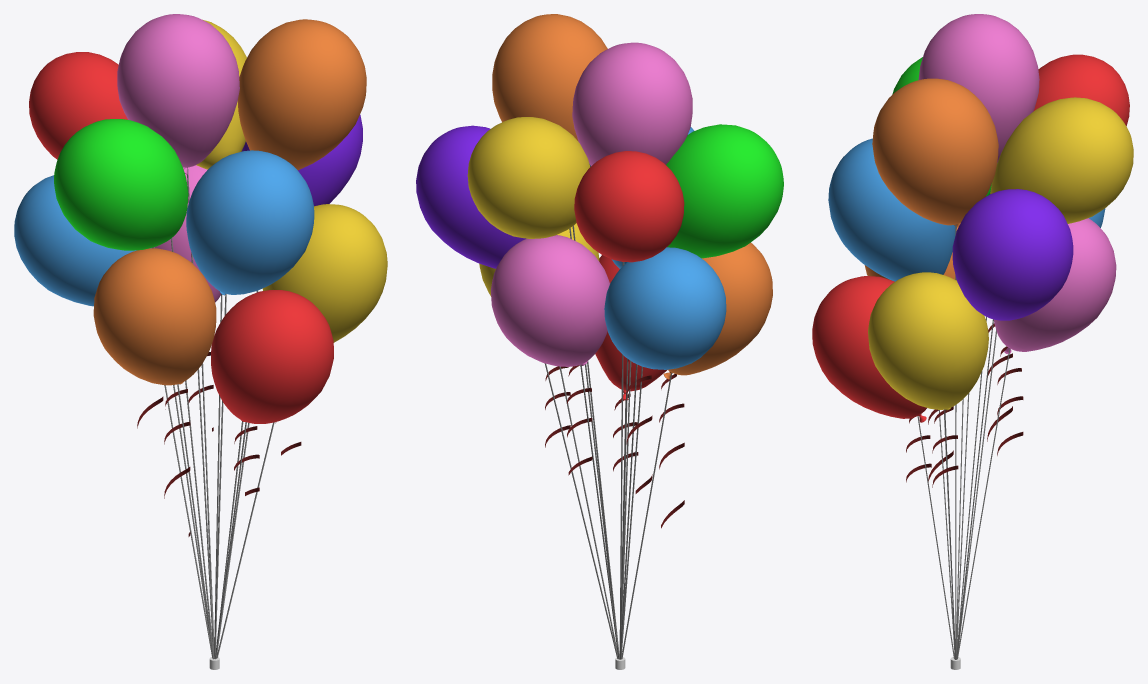
Rendered from Ballons.glb.
3 renders of one model, left to right at view 1: azimuth 30°, elevation 25°; view 2: azimuth 150°, elevation 25°; view 3: azimuth 270°, elevation 25°, orthographic.
Parts seen in each view (by area): view 1: Sphere.001, Sphere, Sphere.003, Sphere.002, Sphere.004, Sphere.005, Sphere.006, Sphere.008, Sphere.011, Sphere.007, Sphere.010, Sphere.009 (+6 smaller); view 2: Sphere.009, Sphere.003, Sphere.008, Sphere.002, Sphere.010, Sphere.011, Sphere.001, Sphere.007, Sphere.004, Sphere.005, Cube.011, Cube.015 (+8 smaller); view 3: Sphere.001, Sphere.006, Sphere.007, Sphere.010, Sphere, Sphere.002, Sphere.005, Sphere.009, Sphere.011, Cube.011, Cube.015, Cube.016 (+2 smaller).
Part boxes in pixels (x1,y1,x2,y2): Sphere.001: (238,19,366,170); Sphere: (186,150,314,295); Sphere.003: (54,119,188,250); Sphere.002: (117,14,239,174); Sphere.004: (93,248,216,385); Sphere.005: (211,290,333,423); Sphere.006: (262,204,387,342); Sphere.008: (14,175,151,306); Sphere.011: (29,52,127,159); Sphere.007: (241,114,362,206); Sphere.010: (196,19,246,169); Sphere.009: (152,165,220,302); Sphere.009: (491,235,609,366); Sphere.003: (666,124,783,258); Sphere.008: (604,247,726,369); Sphere.002: (572,42,692,166); Sphere.010: (467,117,590,238); Sphere.011: (574,151,684,262); Sphere.001: (492,14,607,141); Sphere.007: (416,125,526,268); Sphere.004: (663,242,772,379); Sphere.005: (595,255,666,400); Cube.011: (544,363,618,658); Cube.015: (580,364,619,659); Sphere.001: (872,78,998,227); Sphere.006: (868,272,988,410); Sphere.007: (952,189,1073,320); Sphere.010: (990,97,1133,223); Sphere: (828,138,956,281); Sphere.002: (918,14,1039,162); Sphere.005: (812,276,926,422); Sphere.009: (994,218,1116,353); Sphere.011: (1033,54,1129,126); Cube.011: (956,319,993,659); Cube.015: (957,348,1010,658); Cube.016: (958,329,996,646).
Size of the model in its own units: 9.29 by 17.63 by 8.07.
